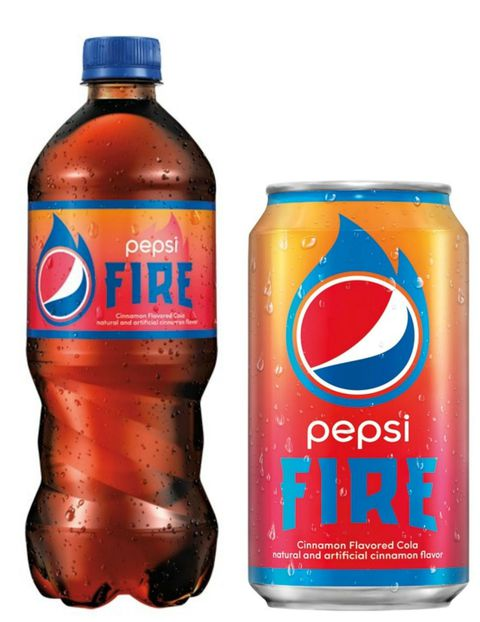pepsi: (300, 276, 417, 393), (39, 250, 86, 316)
